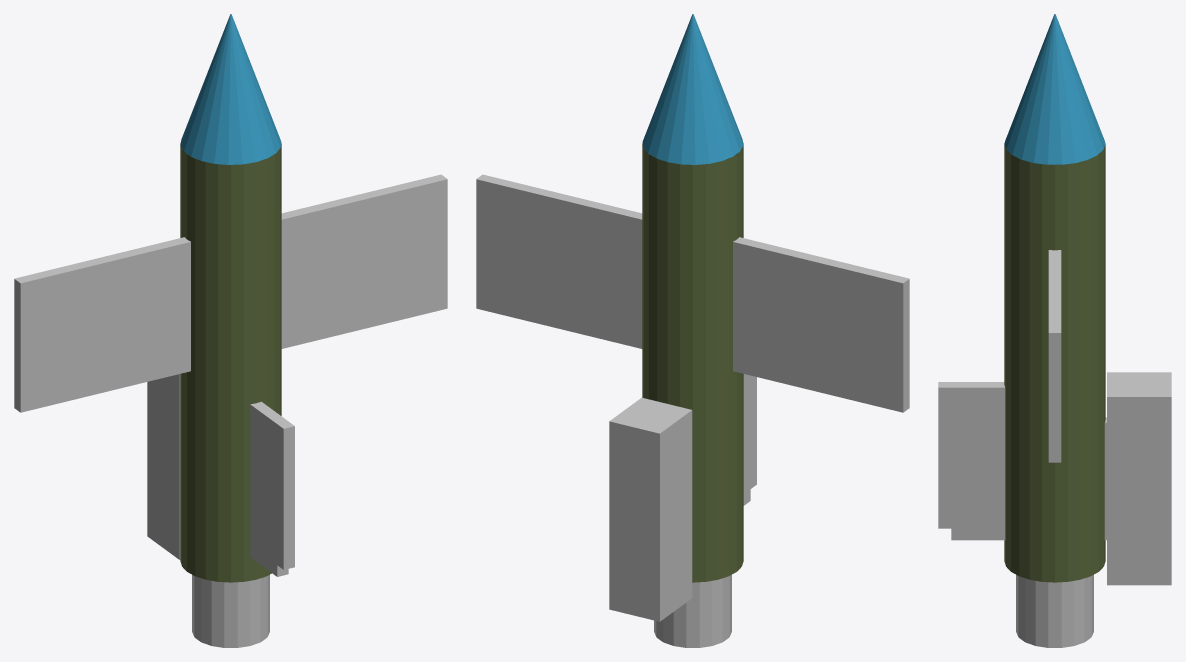
Rendered from alcm.obj.
3 renders of one model, left to right at view 1: azimuth 30°, elevation 25°; view 2: azimuth 150°, elevation 25°; view 3: azimuth 270°, elevation 25°, orthographic.
Visible parts, largest first — view 1: alcm; view 2: alcm; view 3: alcm.
Part boxes in pixels (bbox=[...]): alcm: bbox=[14, 14, 447, 647]; alcm: bbox=[476, 14, 909, 647]; alcm: bbox=[938, 14, 1171, 647].
Size of the model in its own units: 0.76 by 1.05 by 0.36.
